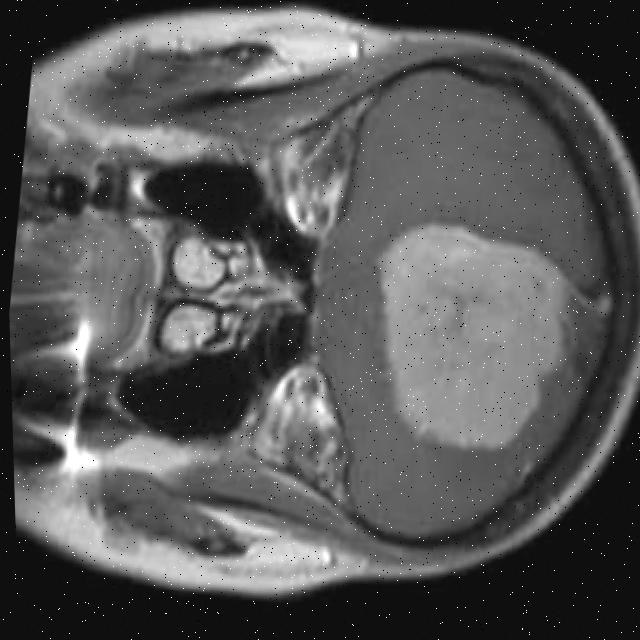Meningioma: (349, 203, 629, 475)
